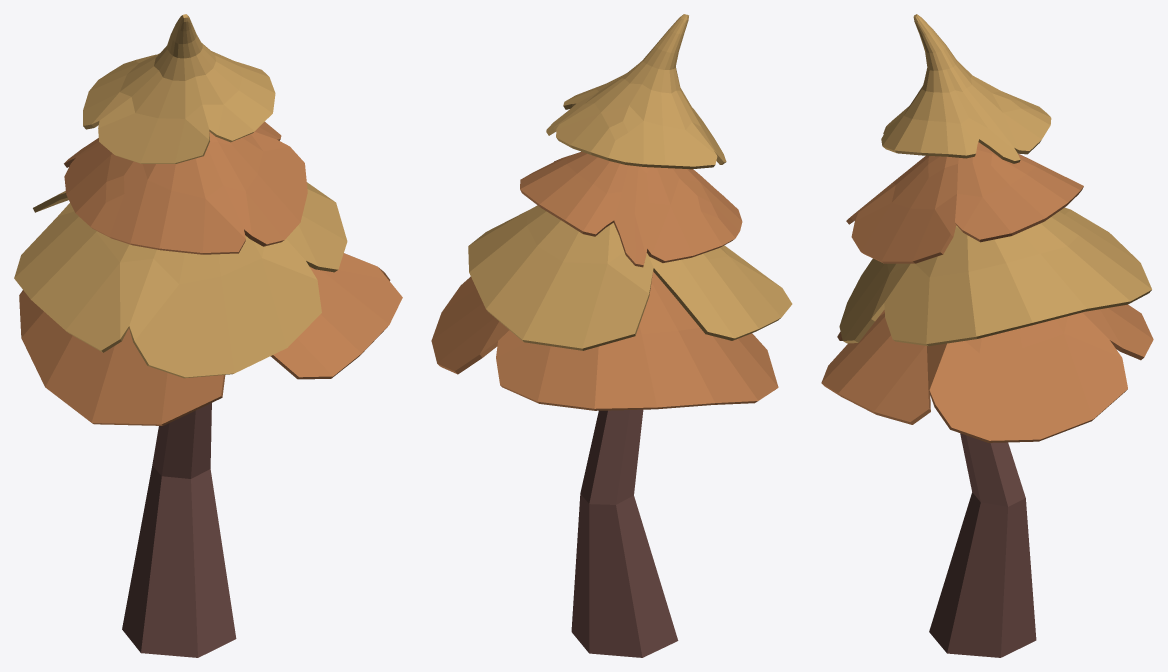
Rendered from pinetree_autumn_5.glb.
The picture shows the model from 3 angles, left to right: view 1: azimuth 30°, elevation 25°; view 2: azimuth 150°, elevation 25°; view 3: azimuth 270°, elevation 25°; orthographic projection. The views are drawn at different scales.
Parts seen in each view (by area): view 1: PineTree_Autumn_5; view 2: PineTree_Autumn_5; view 3: PineTree_Autumn_5.
Boxes of the visible parts, <box> form: PineTree_Autumn_5: <box>14,14,402,657</box>; PineTree_Autumn_5: <box>431,14,792,657</box>; PineTree_Autumn_5: <box>821,14,1153,657</box>.
Size of the model in its own units: 3.53 by 6.47 by 3.2.
